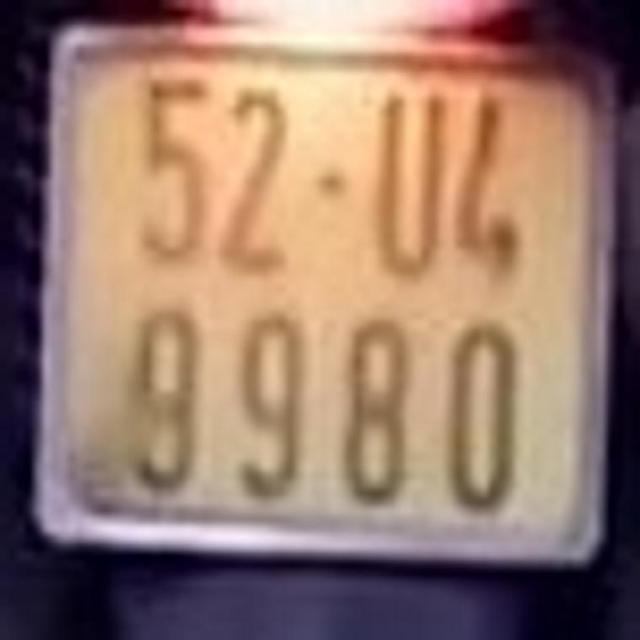0: (442, 316, 529, 524)
2: (218, 58, 293, 289)
4: (450, 74, 530, 296)
5: (136, 62, 209, 276)
8: (342, 300, 418, 510)
9: (228, 303, 318, 504), (125, 300, 211, 495)
U: (371, 82, 446, 284)
